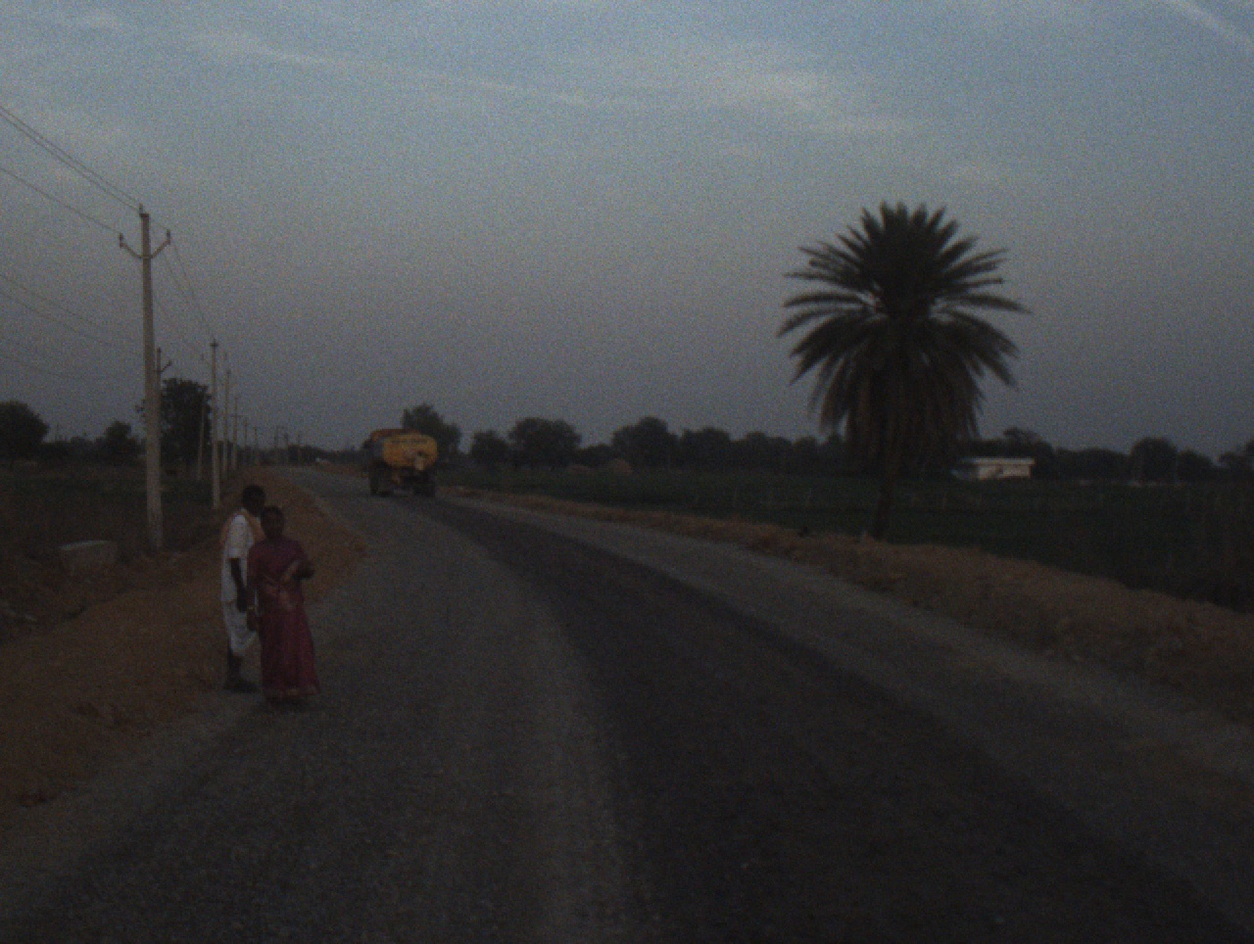person: (245, 503, 321, 717), (215, 480, 267, 701)
rider: (413, 448, 428, 491)
truck: (360, 423, 441, 501)
